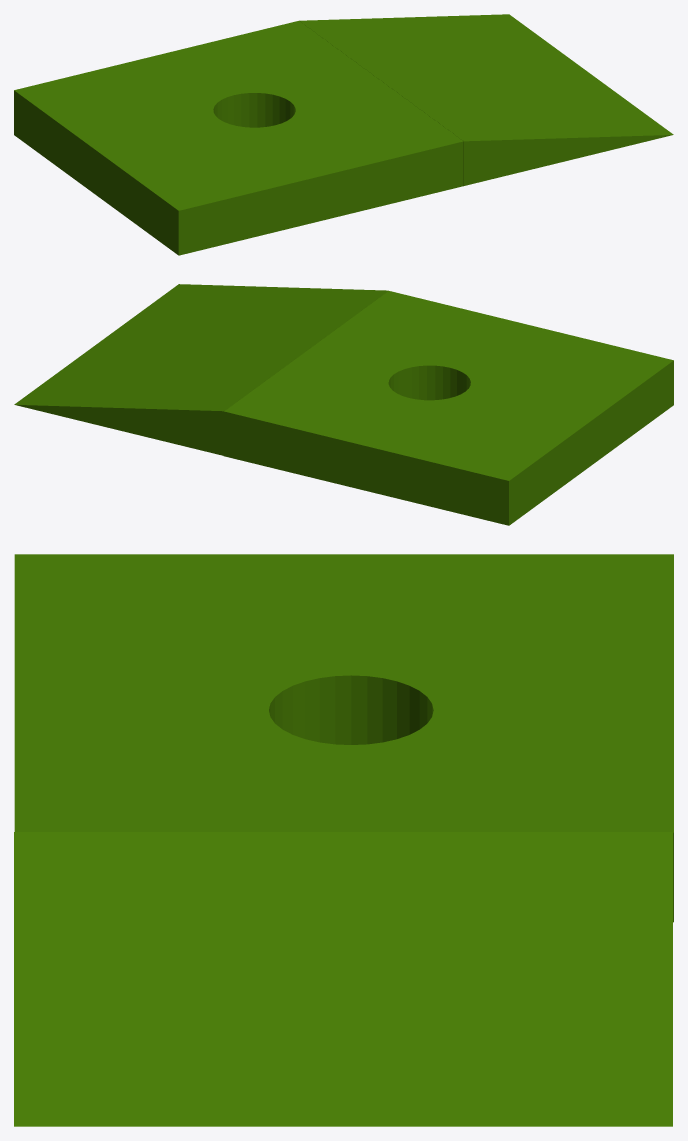
File: block_with_slope_and_hole.fbx
The picture shows the model from 3 angles, top to bottom: view 1: azimuth 30°, elevation 25°; view 2: azimuth 150°, elevation 25°; view 3: azimuth 270°, elevation 25°; orthographic projection. The views are drawn at different scales.
Parts seen in each view (by area): view 1: Plane.002; view 2: Plane.002; view 3: Plane.002.
Part boxes in pixels (x1,y1,x2,y2): Plane.002: [14, 14, 673, 255]; Plane.002: [14, 284, 673, 525]; Plane.002: [14, 554, 673, 1126].
Bounding box in the file's own units: 3469 × 301 × 2001.
